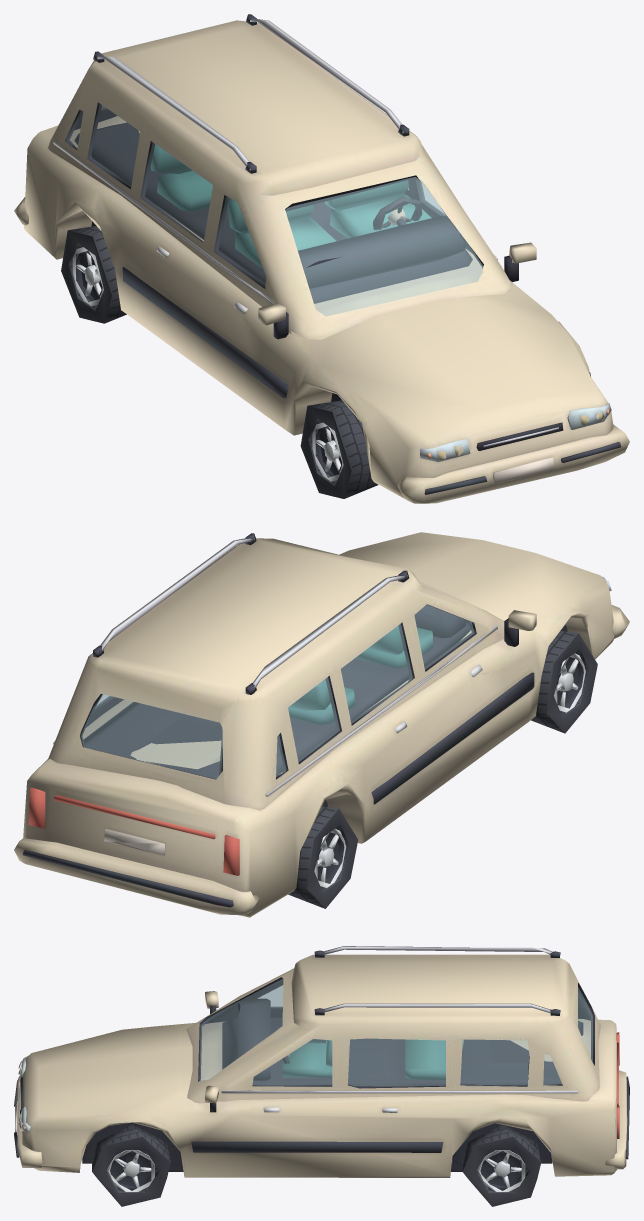
Rendered from g3-1990s-station-wagon-lite.glb.
3 views of the same model, one above another, from view 1: azimuth 30°, elevation 25°; view 2: azimuth 150°, elevation 25°; view 3: azimuth 270°, elevation 25° (orthographic). The views are drawn at different scales.
Parts seen in each view (by area): view 1: 1990s-station-wagon_body, 1990s-station-wagon_windows, 1990s-station-wagon_wheel_fr, 1990s-station-wagon_wheel_rr; view 2: 1990s-station-wagon_body, 1990s-station-wagon_windows, 1990s-station-wagon_wheel_fr, 1990s-station-wagon_wheel_rr; view 3: 1990s-station-wagon_body, 1990s-station-wagon_windows, 1990s-station-wagon_wheel_rl, 1990s-station-wagon_wheel_fl.
Part boxes in pixels (x1,y1,x2,y2): 1990s-station-wagon_body: [14, 14, 629, 503]; 1990s-station-wagon_windows: [67, 104, 482, 315]; 1990s-station-wagon_wheel_fr: [300, 400, 378, 498]; 1990s-station-wagon_wheel_rr: [61, 226, 126, 323]; 1990s-station-wagon_body: [14, 532, 629, 917]; 1990s-station-wagon_windows: [81, 605, 473, 778]; 1990s-station-wagon_wheel_fr: [531, 631, 597, 733]; 1990s-station-wagon_wheel_rr: [288, 806, 357, 908]; 1990s-station-wagon_body: [14, 946, 629, 1177]; 1990s-station-wagon_windows: [199, 979, 592, 1086]; 1990s-station-wagon_wheel_rl: [462, 1124, 541, 1206]; 1990s-station-wagon_wheel_fl: [92, 1124, 170, 1206].
Bounding box in the file's own units: 1.9 × 1.6 × 4.79.
Materials: 6 (2 with a texture image).
